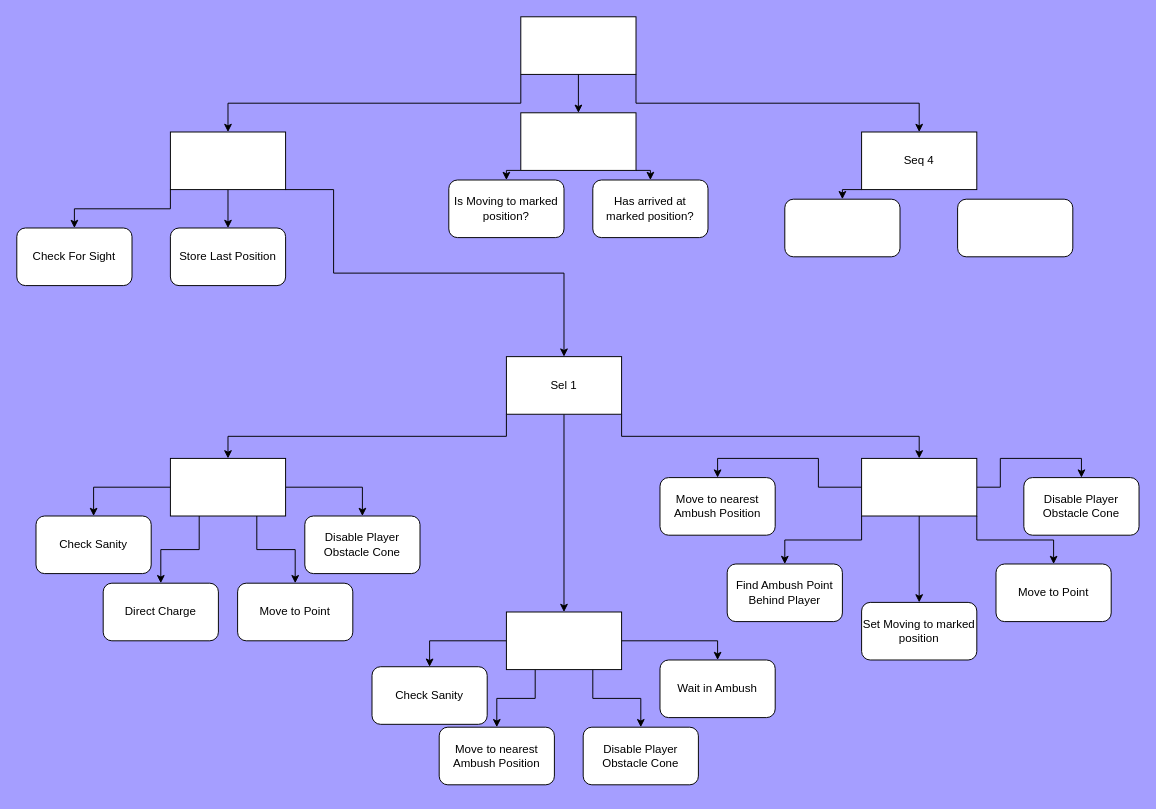
The diagram is 1156 pixels wide and 809 high, and some of its shapes have lost their labels. Here are the shapes that lost their labels. From the top down, the box of each, then its label:
(520, 16, 636, 74): Root Selector
(169, 131, 286, 190): Seq 3
(520, 112, 636, 170): Seq 6
(784, 198, 900, 257): Find Random Location
(957, 198, 1073, 257): Set Destination
(169, 457, 286, 516): Seq 2
(861, 457, 977, 516): Seq 5
(505, 611, 622, 670): Seq 1
